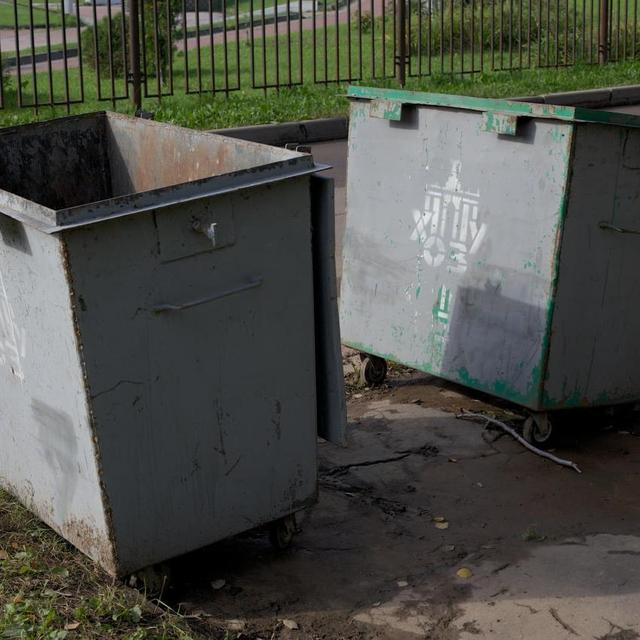Trash_Can_Empty: (2, 113, 344, 575), (333, 85, 640, 412)
